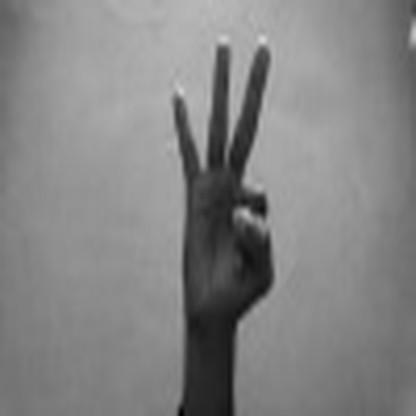f: (157, 26, 293, 318)
